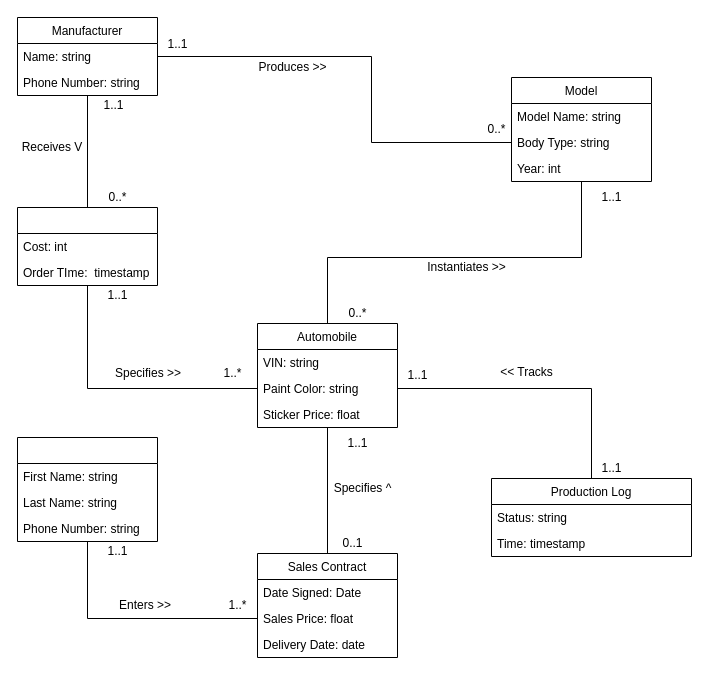
This 709x678 diagram has some shape labels left out. Here are the shapes that lost their labels. From the top down, the box of each, then its label:
(16, 206, 158, 286): Purchase Order
(16, 436, 158, 542): Customer
